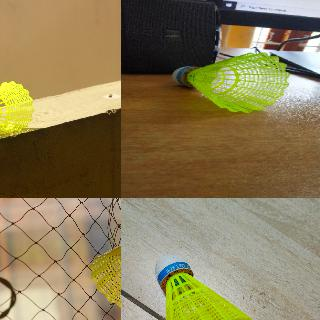shuttlecock: (172, 53, 288, 113), (154, 254, 250, 319), (90, 214, 120, 317), (0, 81, 33, 133)
